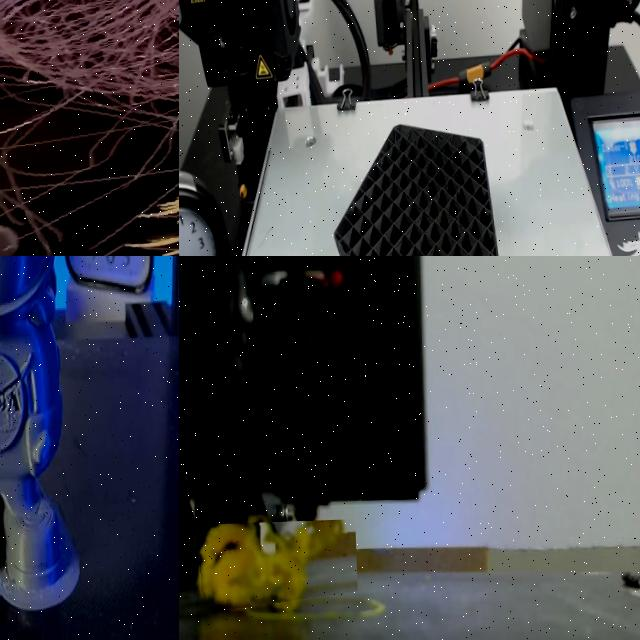spaghetti: (0, 0, 179, 256), (196, 519, 358, 613)
